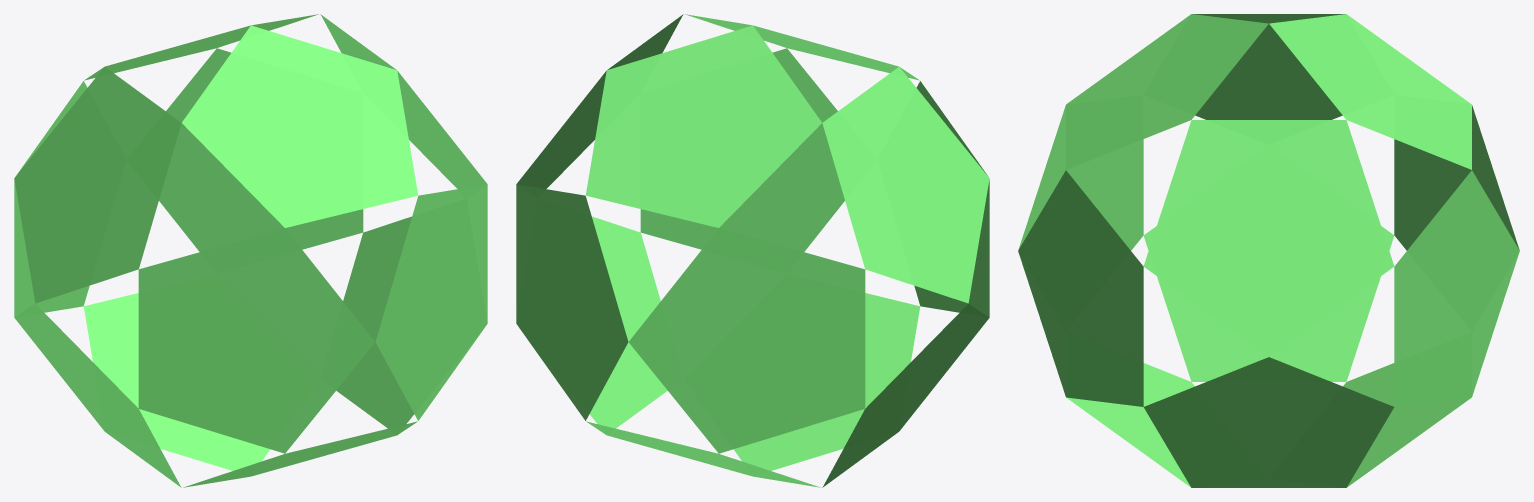
The model's file is IcosidodecahedronA1.obj.
3 renders of one model, left to right at view 1: azimuth 30°, elevation 25°; view 2: azimuth 150°, elevation 25°; view 3: azimuth 270°, elevation 25°, orthographic.
Bounding box in the file's own units: 3.24 × 3.24 × 3.24.
